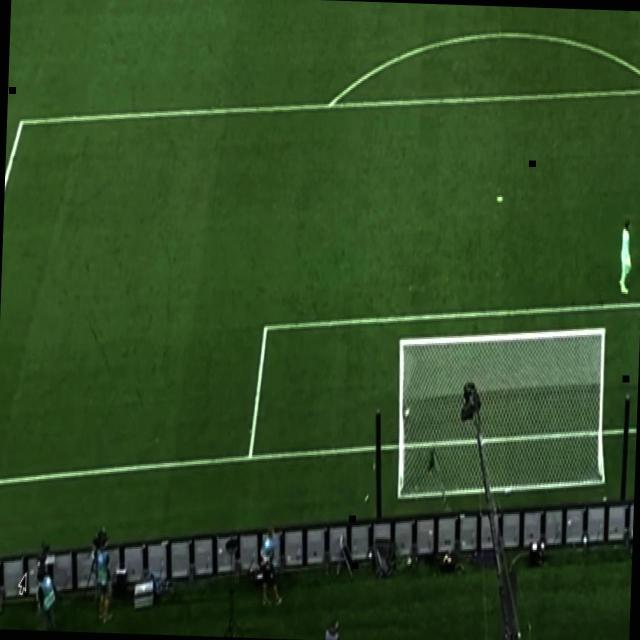player-white: (617, 215, 636, 301)
